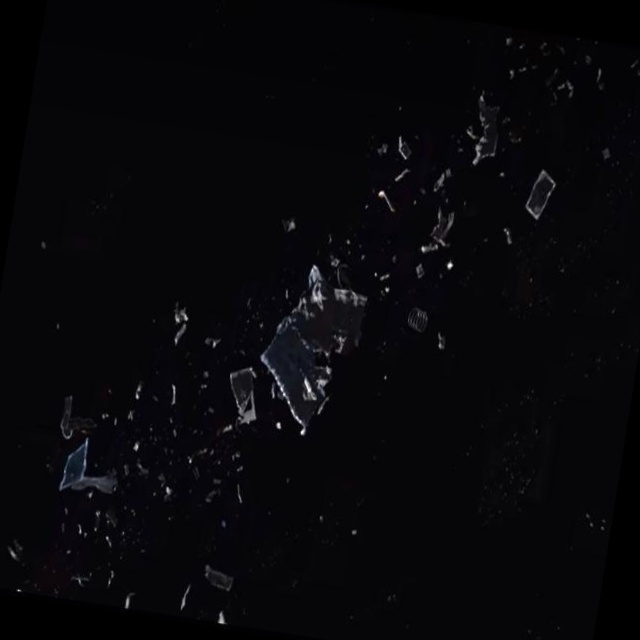large_debris: (263, 324, 351, 462), (89, 473, 149, 541), (298, 255, 366, 309), (406, 169, 453, 244), (441, 70, 475, 150), (503, 118, 538, 194), (168, 305, 199, 386), (356, 117, 385, 203), (240, 375, 276, 443), (245, 558, 285, 610), (75, 432, 107, 482), (407, 272, 433, 328), (10, 577, 31, 599)
